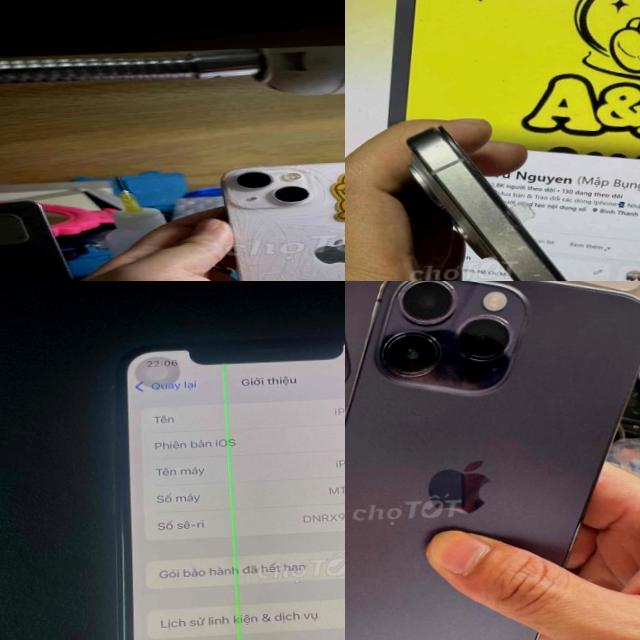gen_14: (345, 281, 640, 640), (221, 154, 345, 281)
gen_15: (365, 108, 629, 281)
gen_x_xs: (109, 332, 345, 640)
